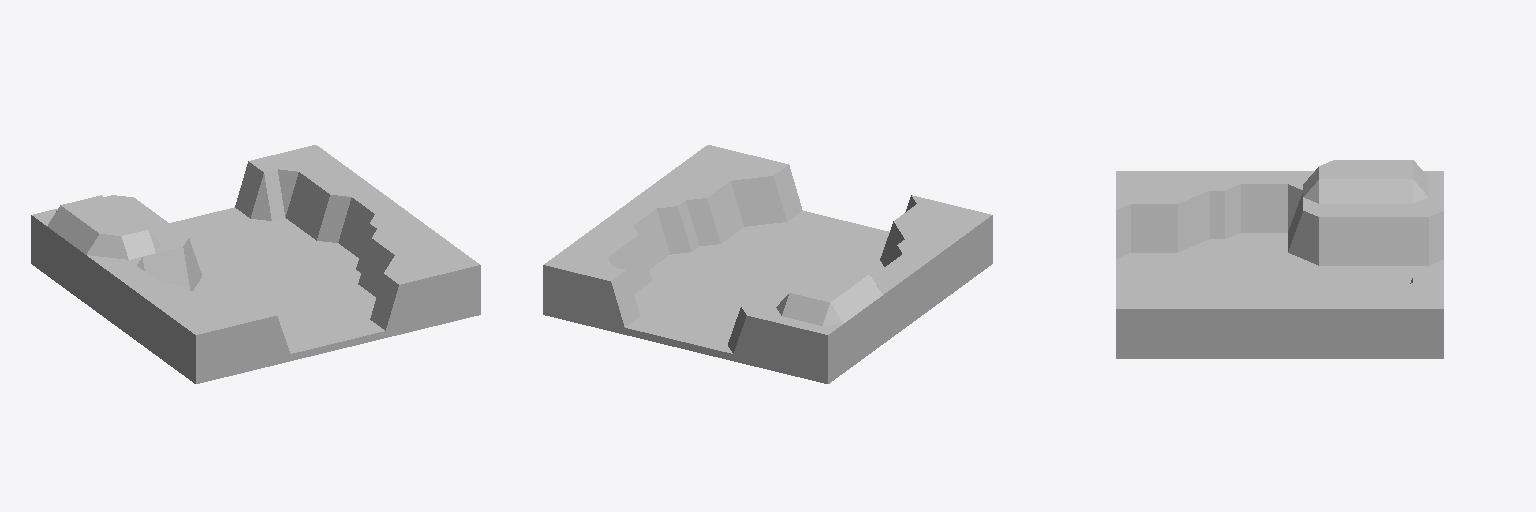
File: ruins_collider.obj
3 renders of one model, left to right at view 1: azimuth 30°, elevation 25°; view 2: azimuth 150°, elevation 25°; view 3: azimuth 270°, elevation 25°, orthographic.
Visible parts, largest first — view 1: collider_Cube.001; view 2: collider_Cube.001; view 3: collider_Cube.001.
Part boxes in pixels (bbox=[...]): collider_Cube.001: bbox=[31, 145, 480, 383]; collider_Cube.001: bbox=[543, 145, 992, 383]; collider_Cube.001: bbox=[1116, 160, 1443, 358].
Size of the model in its own units: 20 by 4.5 by 20.